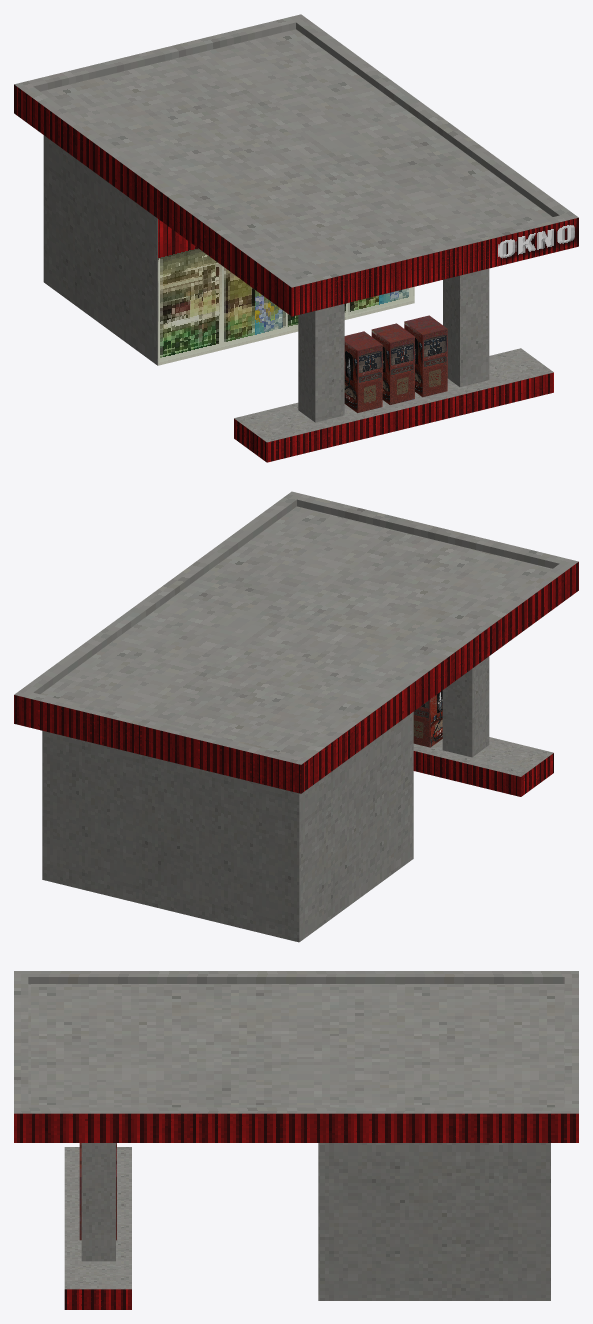
Rendered from gas_station.glb.
3 views of the same model, one above another, from view 1: azimuth 30°, elevation 25°; view 2: azimuth 150°, elevation 25°; view 3: azimuth 270°, elevation 25° (orthographic).
Parts seen in each view (by area): view 1: Cube; view 2: Cube; view 3: Cube.
Part boxes in pixels (x1,y1,x2,y2): Cube: (14, 14, 578, 462); Cube: (14, 491, 578, 942); Cube: (14, 971, 578, 1309).
Size of the model in its own units: 2 by 1.29 by 3.35.
Materials: 1 (1 with a texture image).
